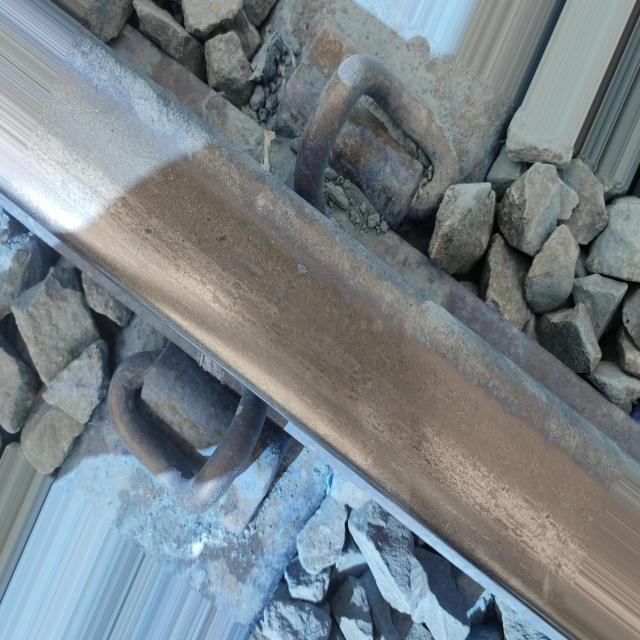Good Fasteners: (253, 12, 468, 266), (91, 330, 299, 552)
